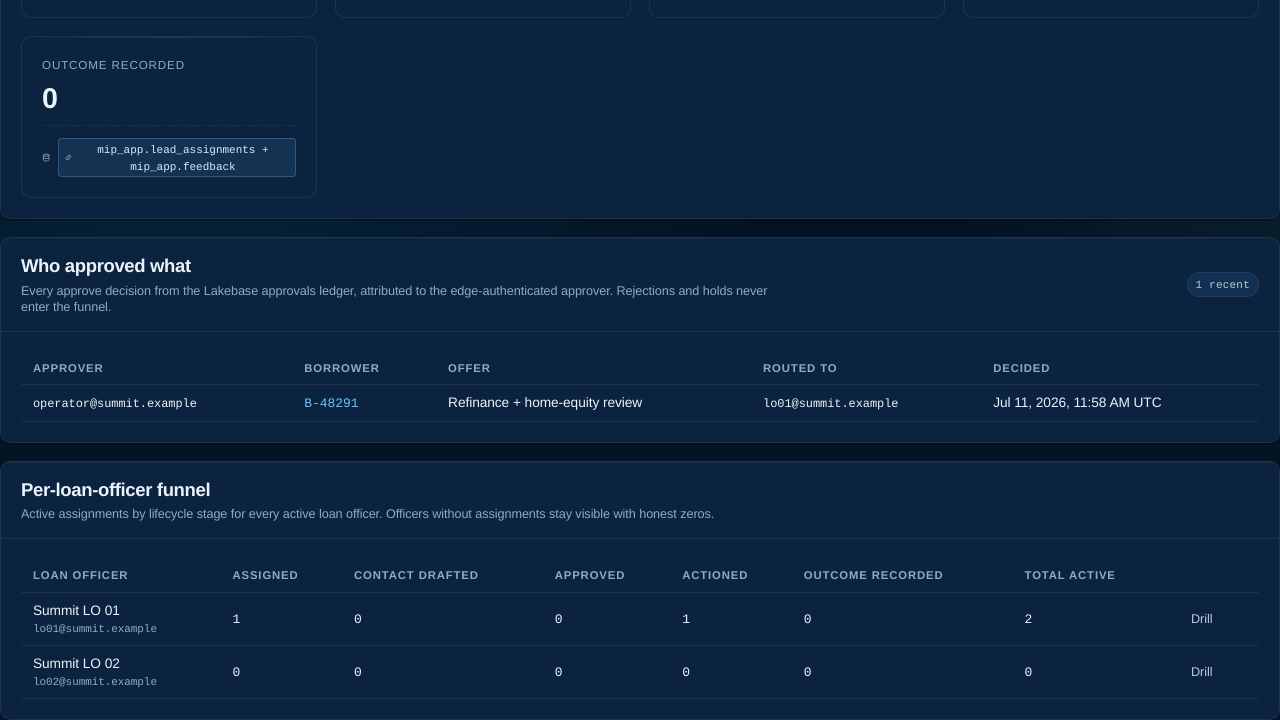
Test: ApprovalFunnelSection › says why an officer drill-down failed without the transport message
(page scrolled)
What coordinates should you click on to do the following:
click the button "Drill" in the row of "Summit LO 01"
I would click on:
 (1202, 619)
Its box is [1180, 604, 1223, 634].
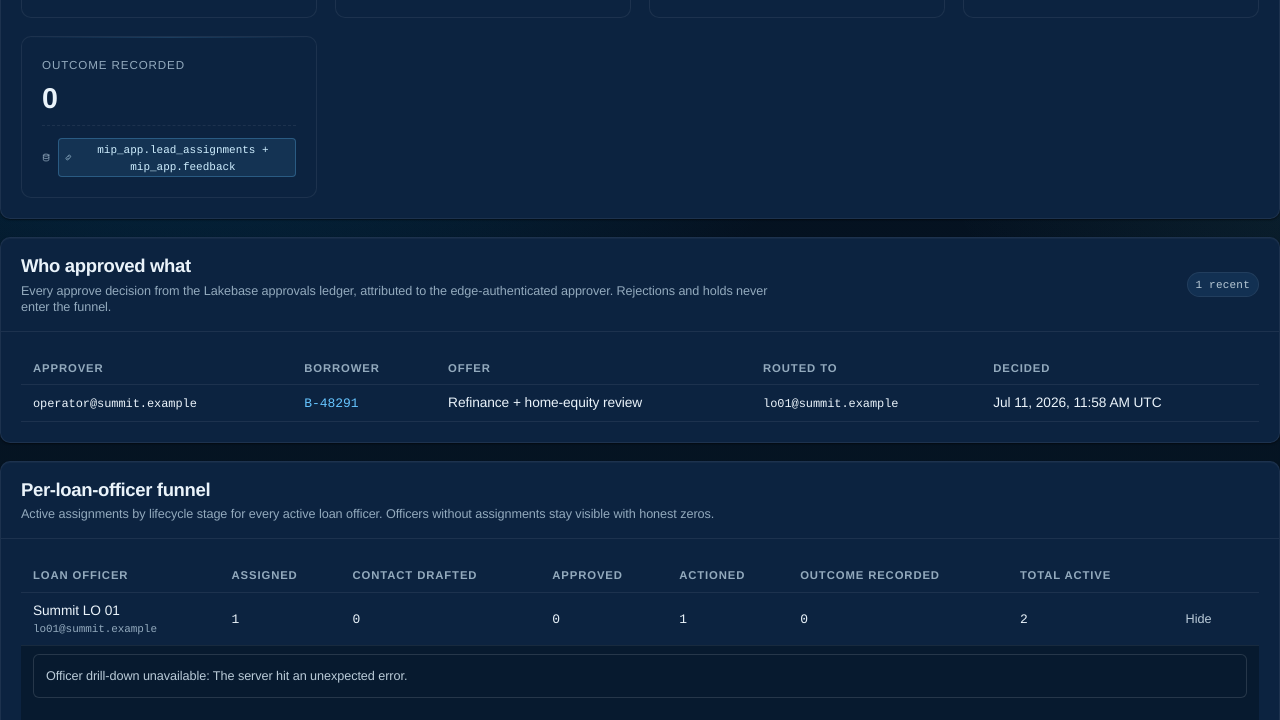
expect the message "Officer drill-down unavailable: The server hit an unexpected error." is shown: met, box [33, 654, 1247, 698]
